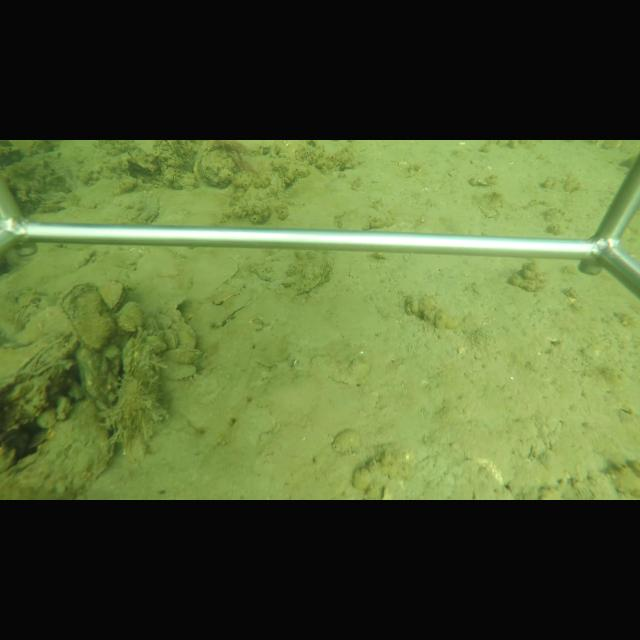Oyster-Closed: (2, 395, 116, 499), (57, 281, 118, 355), (86, 190, 161, 223), (193, 143, 242, 190), (97, 279, 130, 313)
